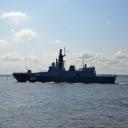Fragata: (13, 47, 118, 84)
